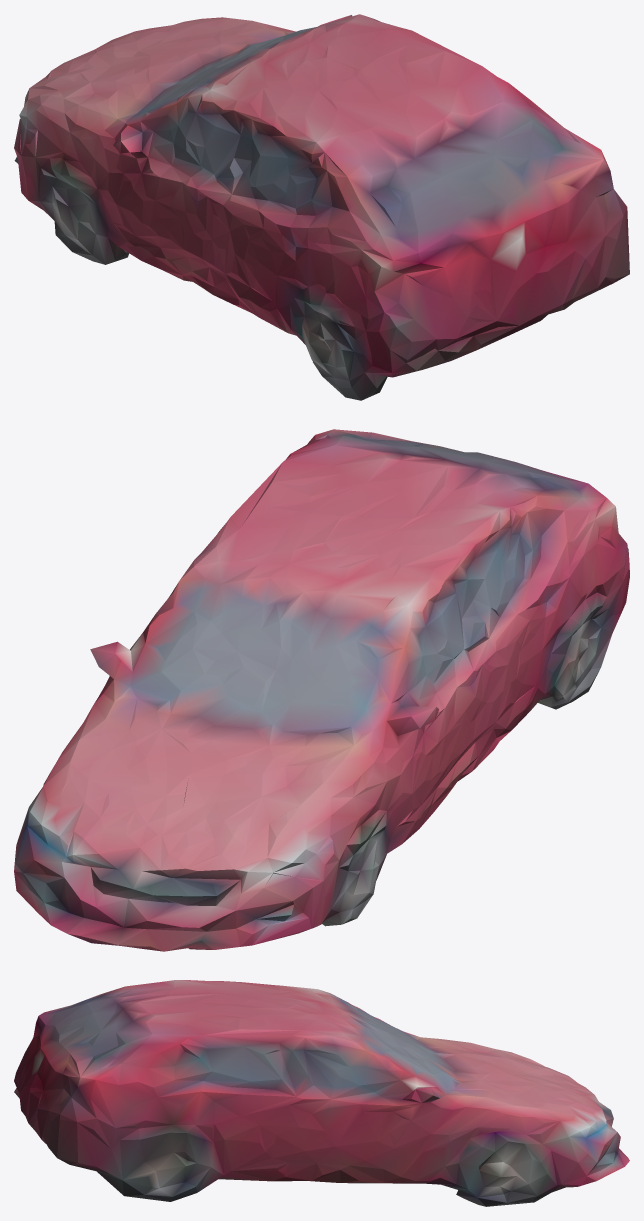
The model's file is sedan.glb.
3 renders of one model, top to bottom at view 1: azimuth 30°, elevation 25°; view 2: azimuth 150°, elevation 25°; view 3: azimuth 270°, elevation 25°, orthographic. The views are drawn at different scales.
Parts seen in each view (by area): view 1: world; view 2: world; view 3: world.
Boxes of the visible parts, bbox=[...] form: world: bbox=[14, 14, 629, 400]; world: bbox=[14, 429, 629, 951]; world: bbox=[14, 980, 629, 1206].
Bounding box in the file's own units: 1.95 × 1.5 × 4.5.
